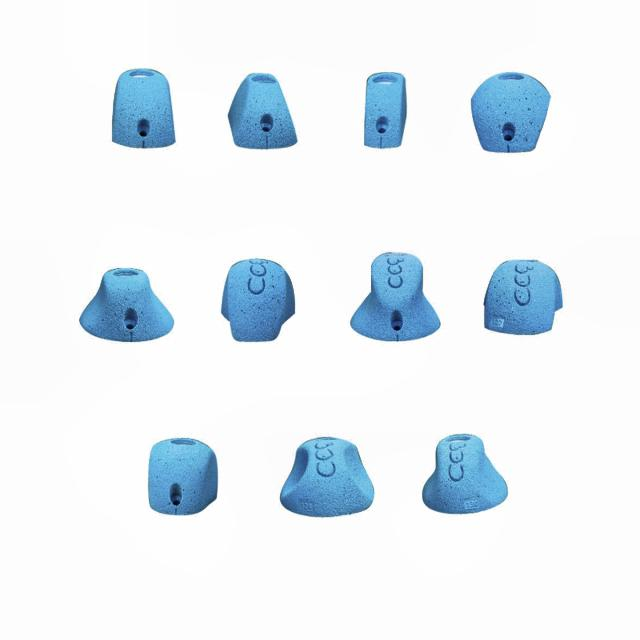Hold: (211, 255, 310, 343), (350, 251, 442, 344), (78, 257, 178, 342), (279, 432, 375, 519), (482, 246, 563, 344), (422, 432, 505, 514), (470, 67, 544, 156), (148, 426, 218, 520), (108, 64, 180, 154), (228, 76, 301, 156), (360, 64, 403, 151)
